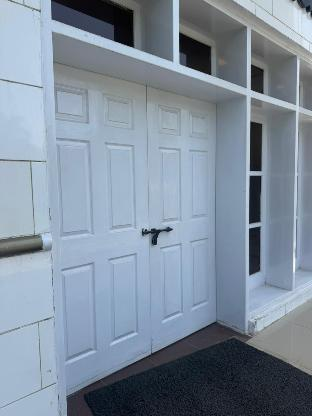door: (44, 27, 229, 393)
